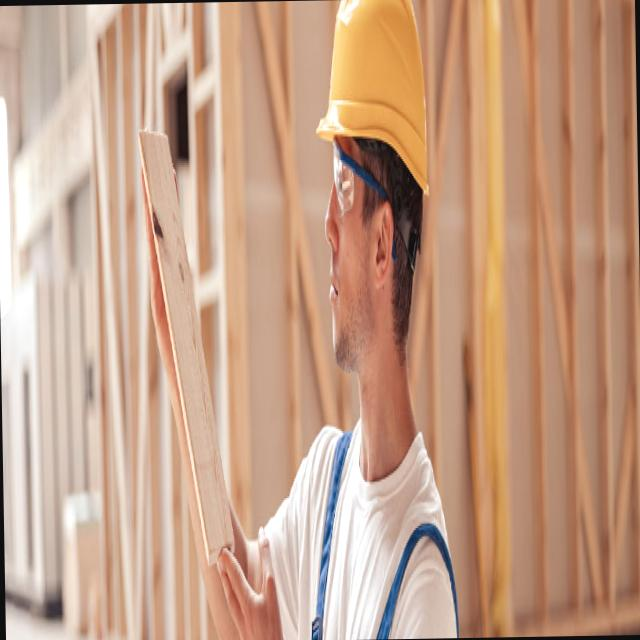goggles: (328, 142, 378, 211)
helmet: (311, 9, 440, 192)
no-vest: (255, 393, 467, 640)
